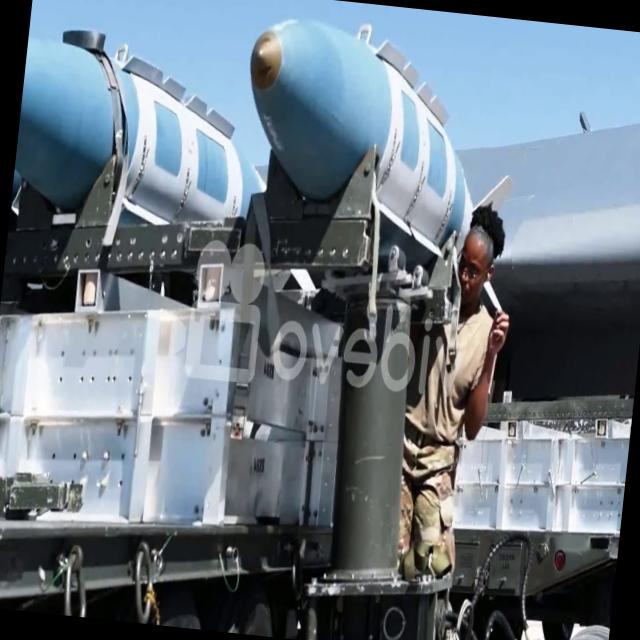rocket: (232, 26, 487, 257), (16, 36, 243, 226)
